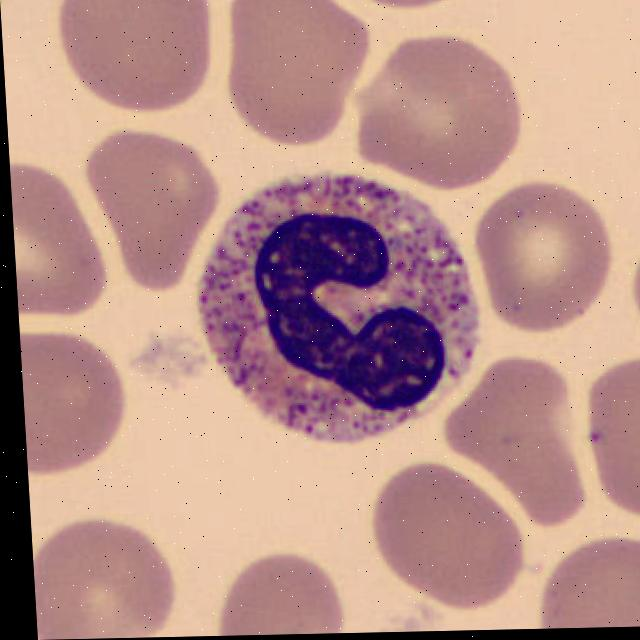neutrophil: (187, 166, 488, 449)
rbc: (82, 125, 233, 302), (434, 355, 586, 530), (357, 39, 530, 188), (477, 176, 621, 339), (367, 463, 522, 612), (225, 0, 371, 153), (31, 517, 190, 640), (55, 0, 219, 119), (9, 151, 109, 323), (20, 331, 126, 485), (207, 537, 367, 636), (513, 533, 640, 629), (583, 351, 640, 524), (344, 0, 483, 29), (620, 233, 640, 348)
